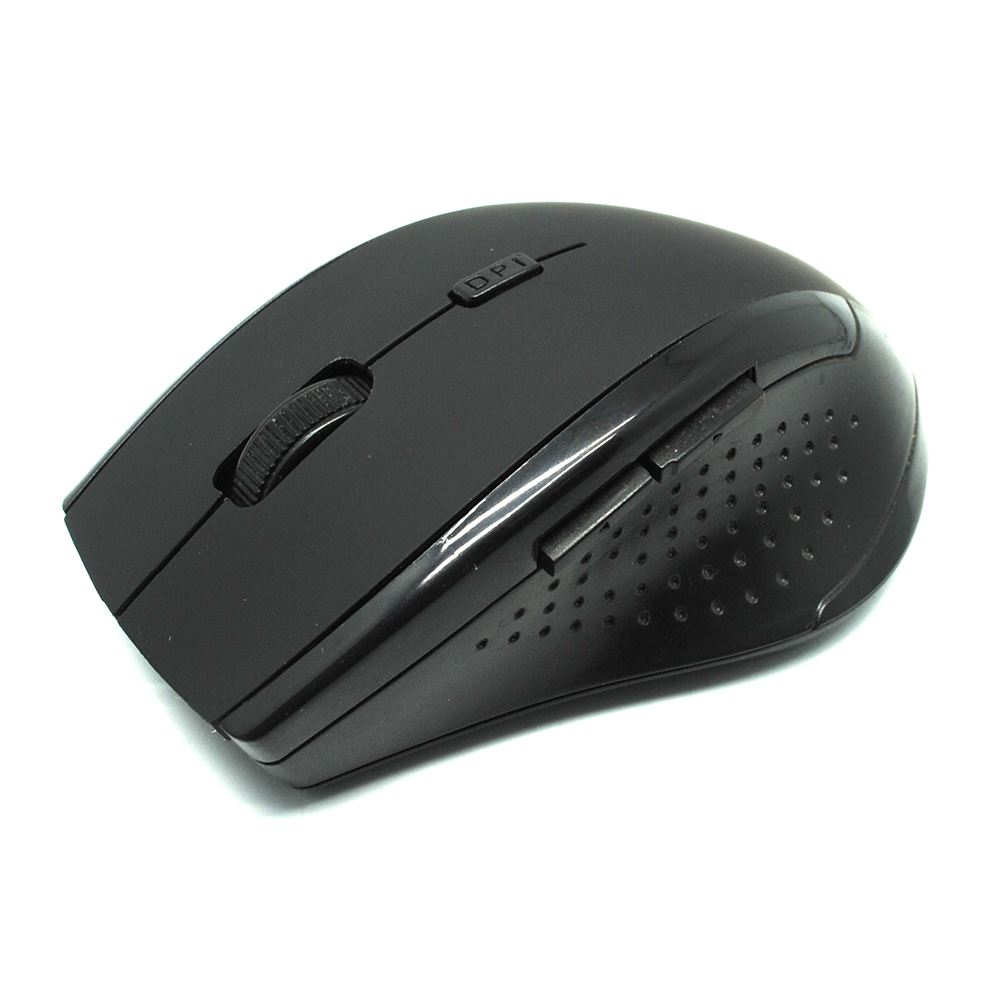Mouse: (56, 191, 934, 815)
